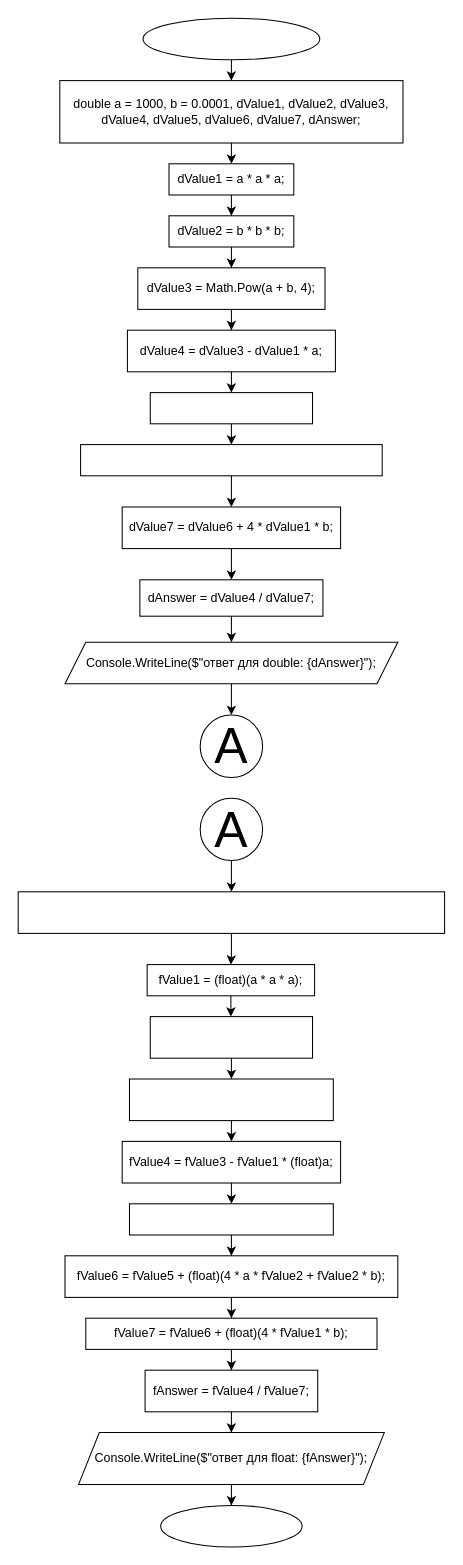
The diagram is 463 pixels wide and 1565 high, and some of its shapes have lost their labels. The box of each missing label's shape, as (x1, y1, x2, y2) in pixels:
dValue5 = 6 * a * a * b * b;: (149, 392, 313, 424)
dValue6 = dValue5 + 4 * a * dValue2 + dValue2 * b;: (80, 444, 382, 476)
float fValue1, fValue2, fValue3, fValue4, fValue5, fValue6, fValue7, fAnswer;: (17, 891, 445, 933)
fValue2 = (float)(b * b * b);: (149, 1016, 313, 1058)
fValue3 = (float)Math.Pow(a + b, 4);: (128, 1078, 333, 1121)
fValue5 = (float)(6 * a * a * b * b);: (128, 1203, 333, 1235)
public static void Main() {: (142, 17, 320, 60)
Конец; }: (160, 1504, 302, 1547)
